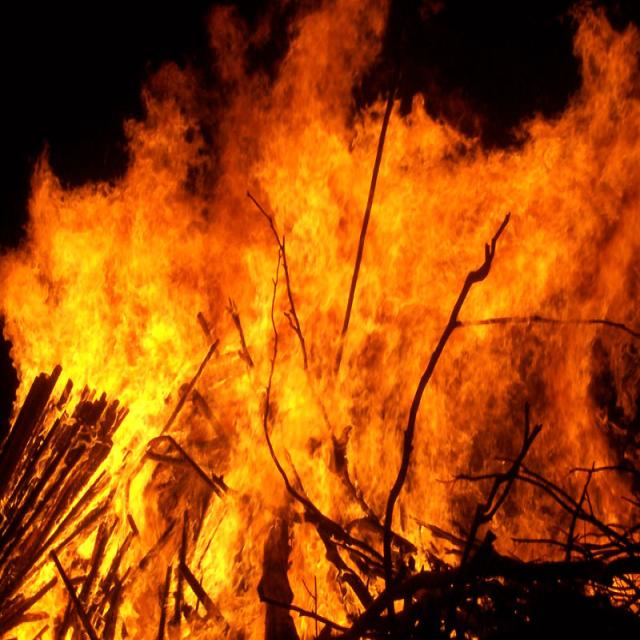fire: (294, 117, 638, 517), (38, 185, 262, 638)
